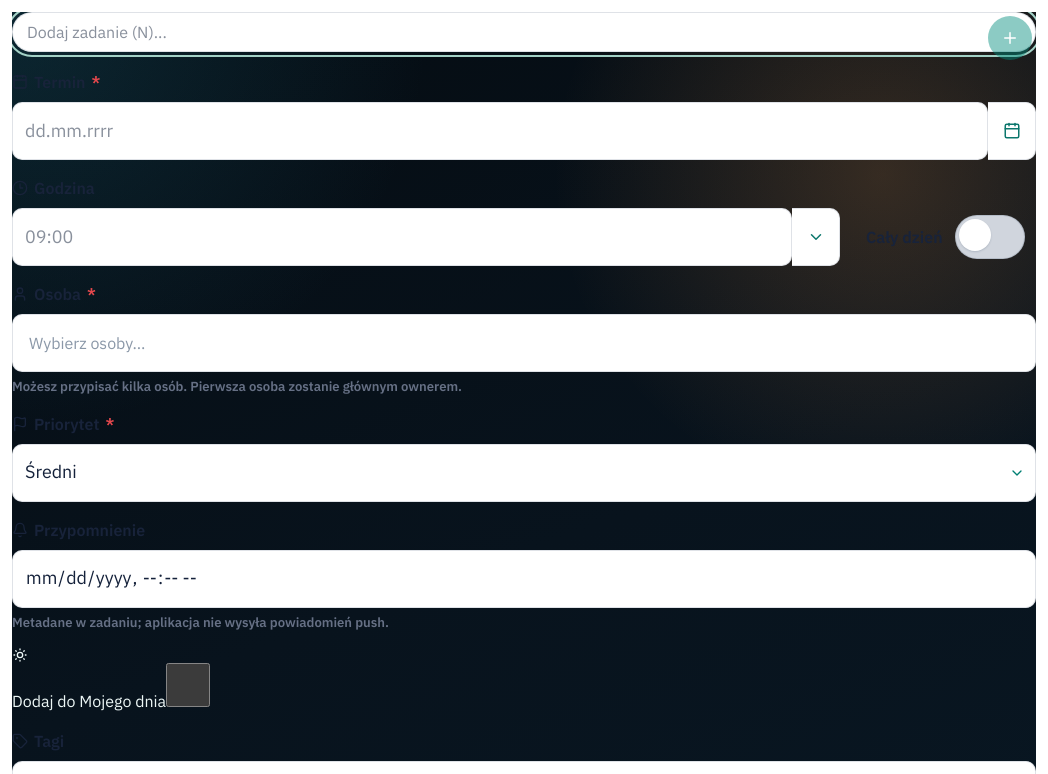
TaskCreateForm › enables submit button when title has text
The image size is (1048, 774).
Type "Something" into the field with placeholder "Dodaj zadanie (N)...". click: point(524, 32)
box: top-left (12, 12), bottom-right (1036, 52)
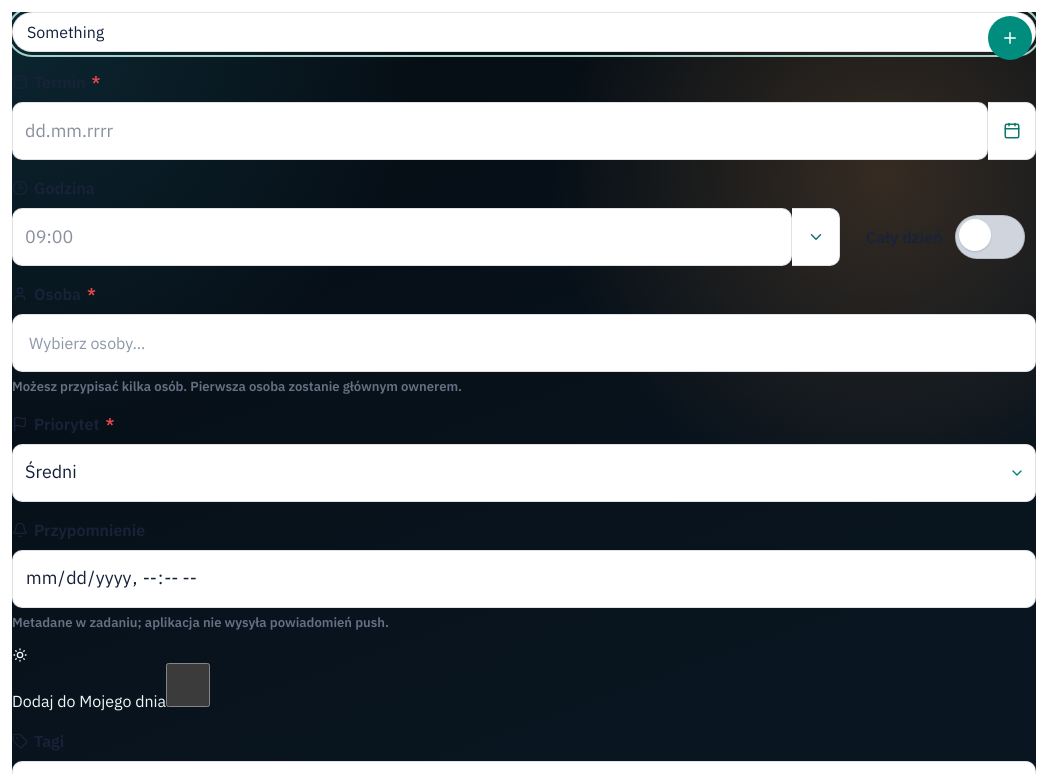
Expected: the button titled "Dodaj zadanie (Enter)" is enabled, top-left (988, 16), bottom-right (1032, 60)
